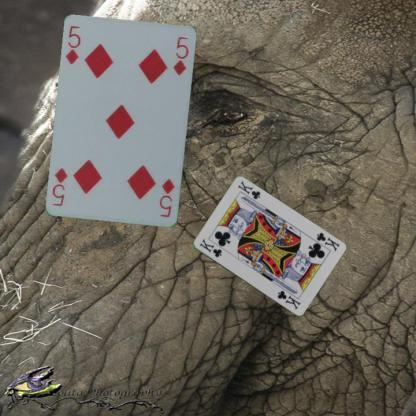5d: (63, 23, 82, 67), (157, 176, 176, 219)
Kc: (196, 236, 223, 259), (314, 230, 341, 252)
